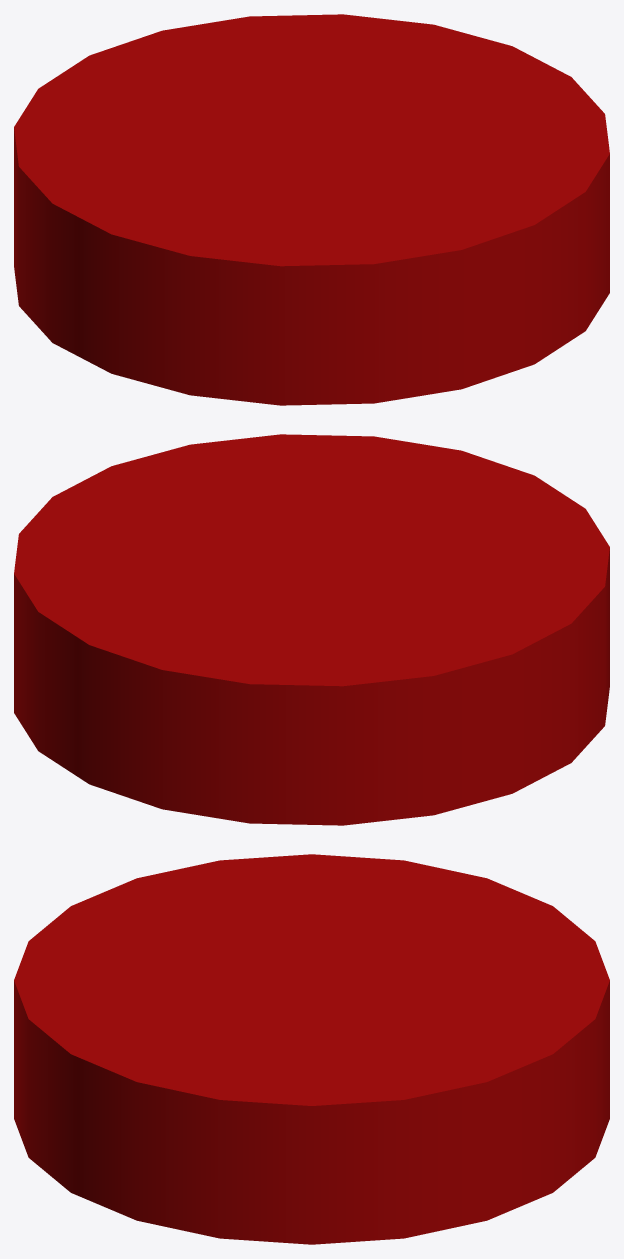
File: button_main.fbx
The picture shows the model from 3 angles, top to bottom: view 1: azimuth 30°, elevation 25°; view 2: azimuth 150°, elevation 25°; view 3: azimuth 270°, elevation 25°; orthographic projection.
Parts seen in each view (by area): view 1: pCylinder4; view 2: pCylinder4; view 3: pCylinder4.
Boxes of the visible parts, <box> form: pCylinder4: <box>14,14,609,405</box>; pCylinder4: <box>14,434,609,825</box>; pCylinder4: <box>14,854,609,1244</box>.
Bounding box in the file's own units: 20.07 × 5.15 × 20.07.
